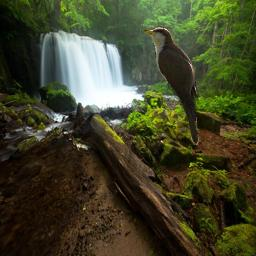Cuckoo: (142, 26, 202, 146)
